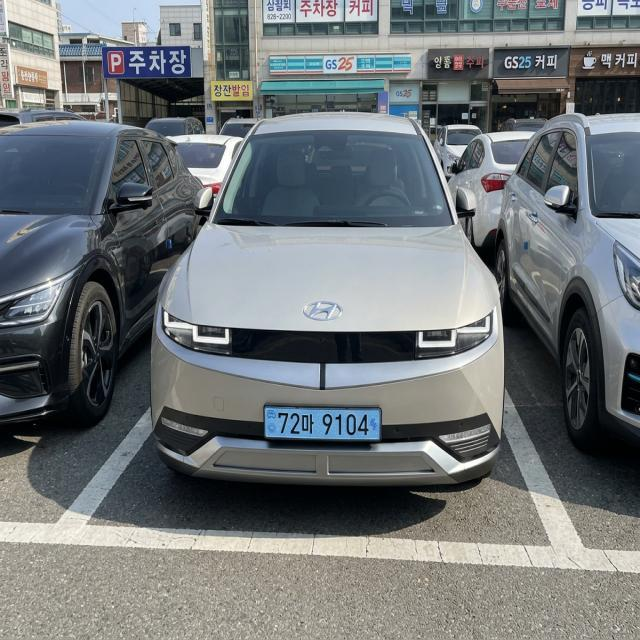car: (257, 392, 393, 456)
carev: (365, 405, 384, 445), (263, 403, 278, 442)
